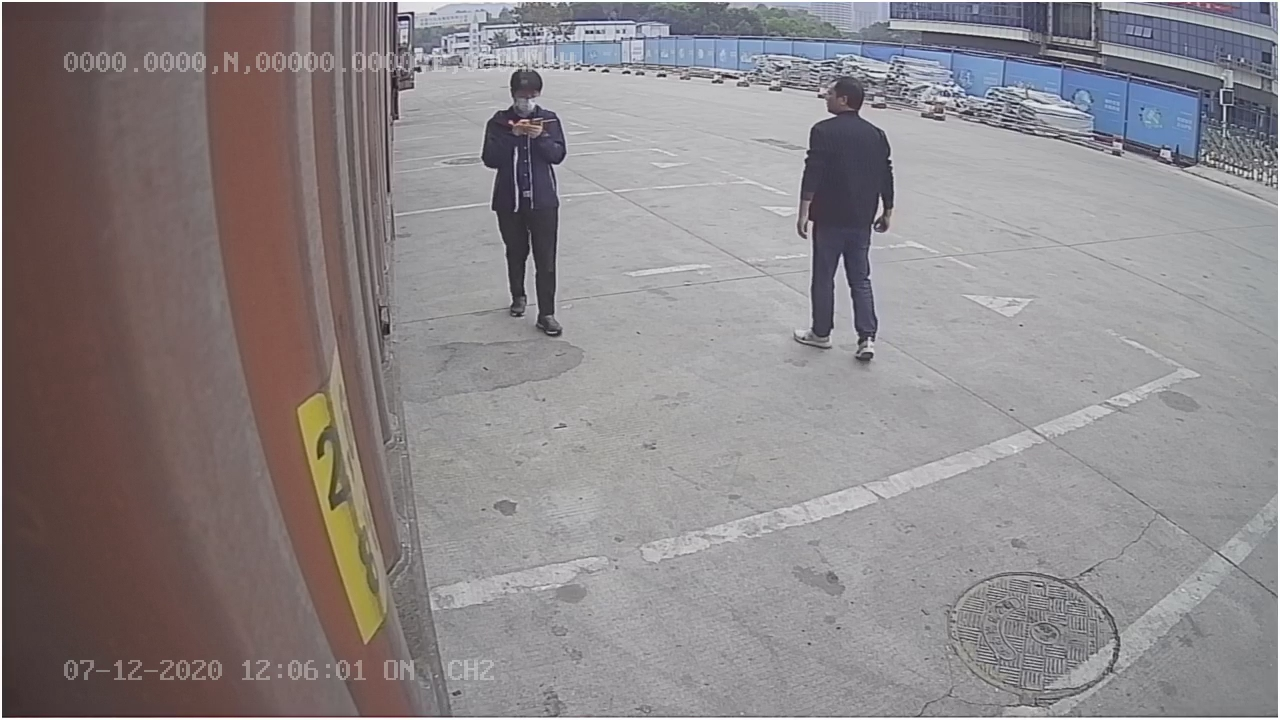person: (786, 68, 897, 369), (476, 63, 571, 336)
